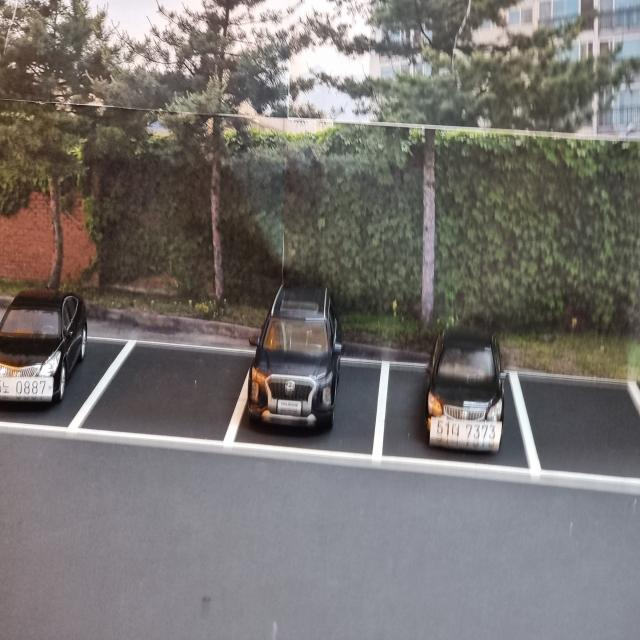empty: (85, 348, 249, 452), (513, 371, 640, 492)
occupied: (243, 284, 367, 455), (410, 310, 518, 468), (1, 285, 87, 419)
